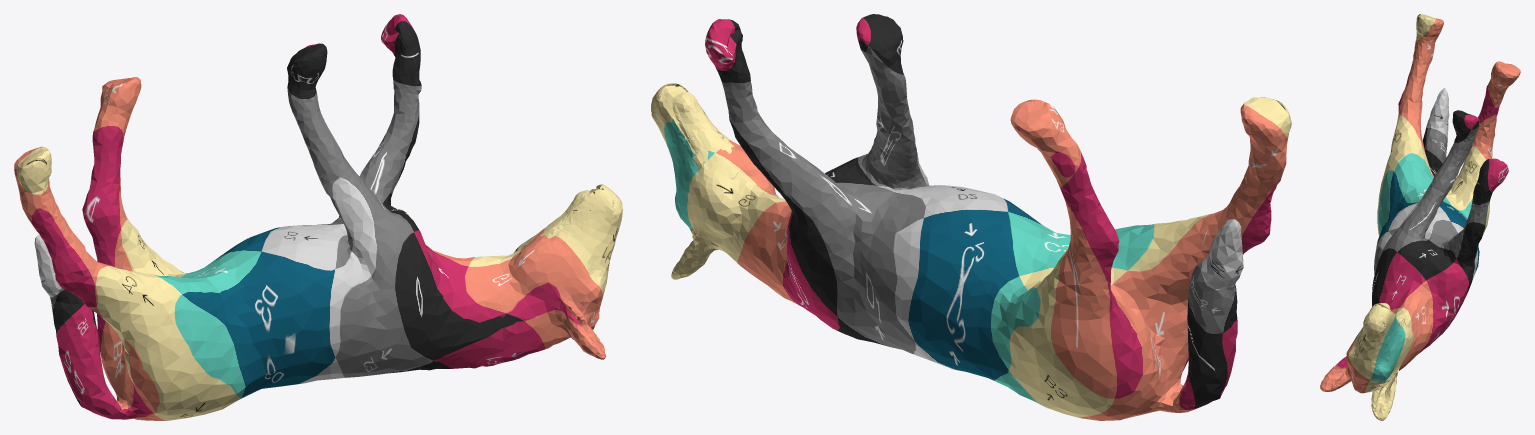
Rendered from fox_02-horse_04.obj.
3 renders of one model, left to right at view 1: azimuth 30°, elevation 25°; view 2: azimuth 150°, elevation 25°; view 3: azimuth 270°, elevation 25°, orthographic. The views are drawn at different scales.
Visible parts, largest first — view 1: fox_02-horse_04_export; view 2: fox_02-horse_04_export; view 3: fox_02-horse_04_export.
Part boxes in pixels (left/top/right/bottom): fox_02-horse_04_export: left=14, top=14, right=622, bottom=420; fox_02-horse_04_export: left=651, top=14, right=1291, bottom=420; fox_02-horse_04_export: left=1320, top=14, right=1520, bottom=420.
Size of the model in its own units: 1.09 by 0.5769 by 0.4582.
